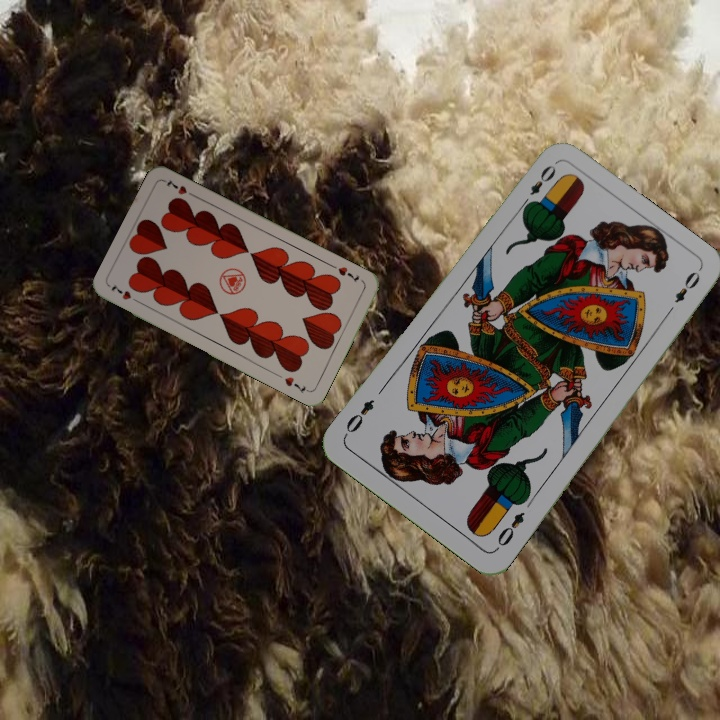EO: (517, 160, 559, 212), (492, 507, 527, 553)
H7: (107, 280, 143, 306), (334, 262, 362, 285)
